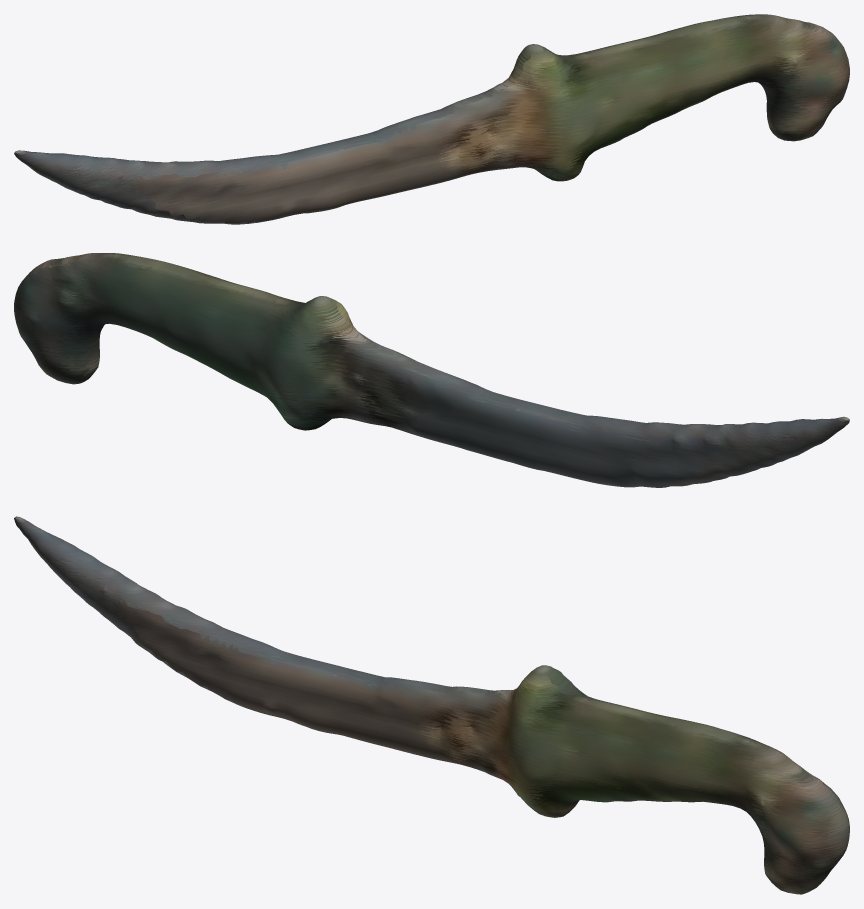
File: kfl-2220.glb
The picture shows the model from 3 angles, top to bottom: view 1: azimuth 30°, elevation 25°; view 2: azimuth 150°, elevation 25°; view 3: azimuth 330°, elevation 25°; orthographic projection. The views are drawn at different scales.
Visible parts, largest first — view 1: geometry_0; view 2: geometry_0; view 3: geometry_0.
Part boxes in pixels (x1,y1,x2,y2): geometry_0: (14, 14, 849, 224); geometry_0: (14, 253, 849, 487); geometry_0: (14, 516, 849, 894).
Size of the model in its own units: 0.9871 by 0.1874 by 0.101.
Materials: 1 (1 with a texture image).
